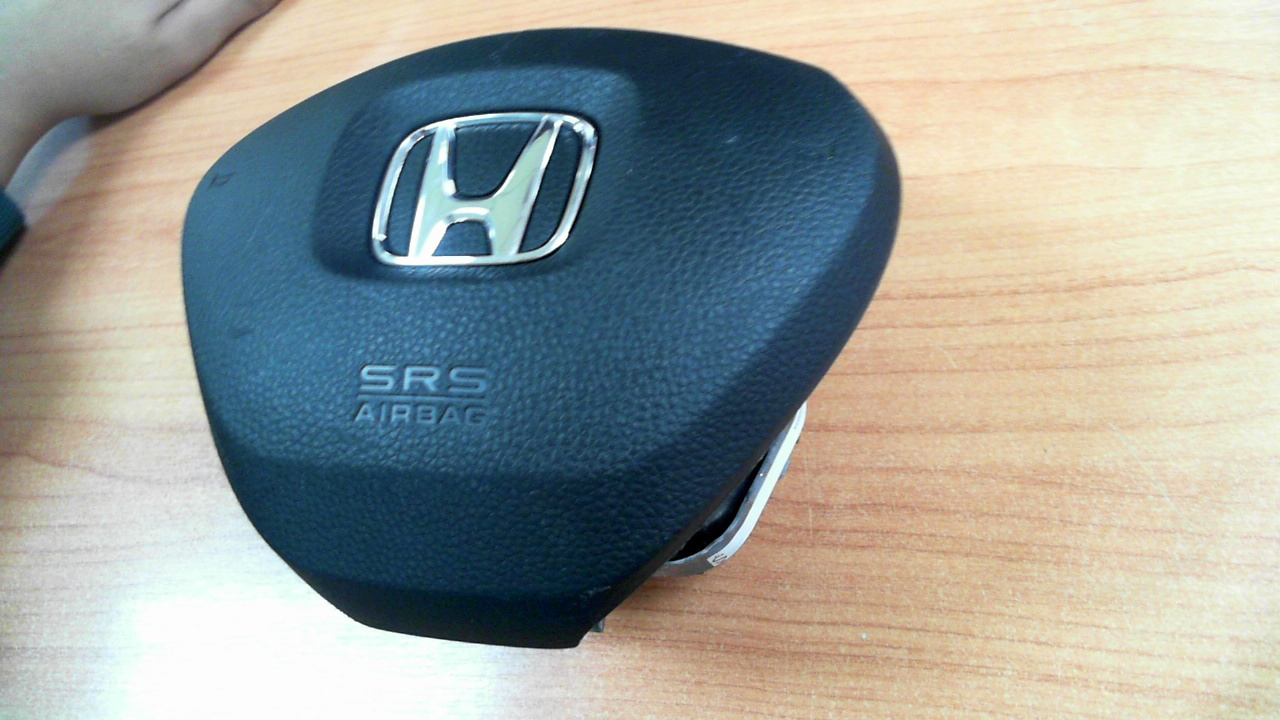Airbag: (187, 24, 894, 647)
Honda: (371, 112, 598, 266)
